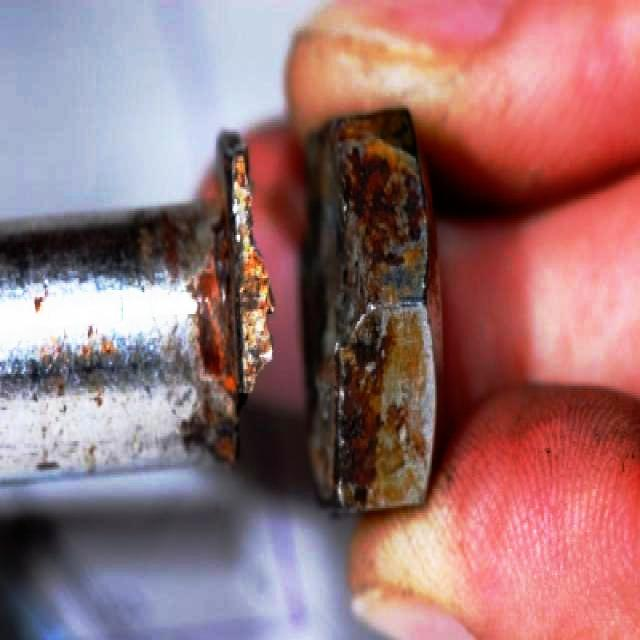Corrosion: (303, 107, 445, 512), (176, 132, 277, 482), (41, 322, 117, 412), (128, 221, 181, 282), (26, 293, 49, 319)
